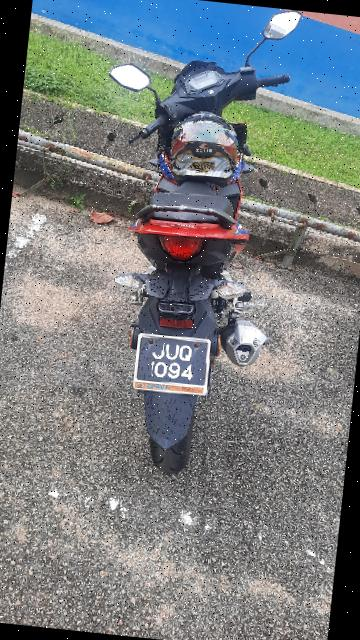License_Plate: (111, 320, 244, 428)
motorcycle: (65, 5, 309, 491)
